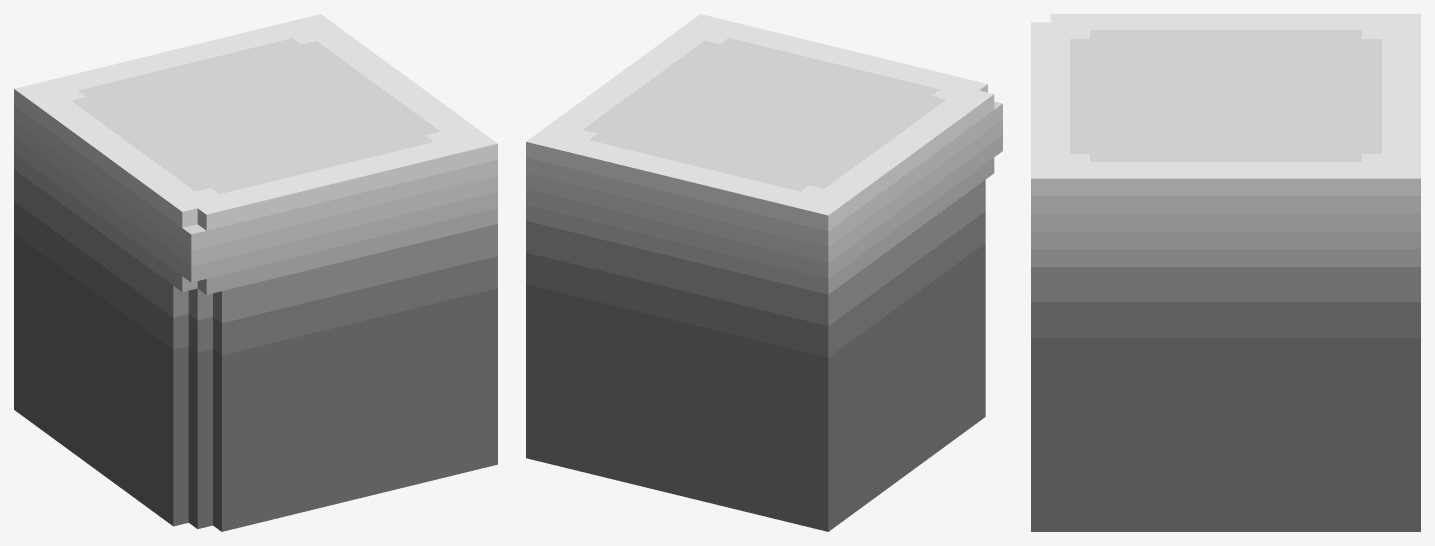
Rendered from full_top_corner.glb.
The picture shows the model from 3 angles, left to right: view 1: azimuth 30°, elevation 25°; view 2: azimuth 150°, elevation 25°; view 3: azimuth 270°, elevation 25°; orthographic projection. The views are drawn at different scales.
Visible parts, largest first — view 1: full_top_corner; view 2: full_top_corner; view 3: full_top_corner.
Part boxes in pixels (x1,y1,x2,y2): full_top_corner: (14, 14, 497, 531); full_top_corner: (526, 14, 1002, 531); full_top_corner: (1031, 14, 1420, 531).
Size of the model in its own units: 2 by 2 by 2.
1 material, 1 textured.
